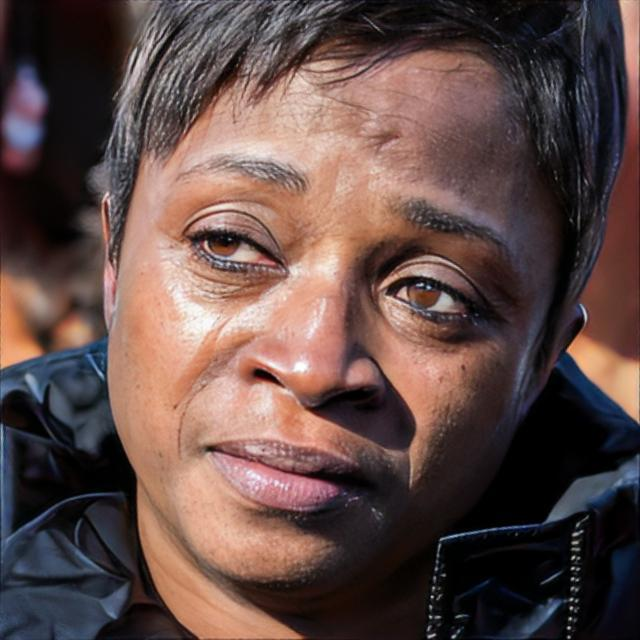sad: (105, 41, 565, 598)
